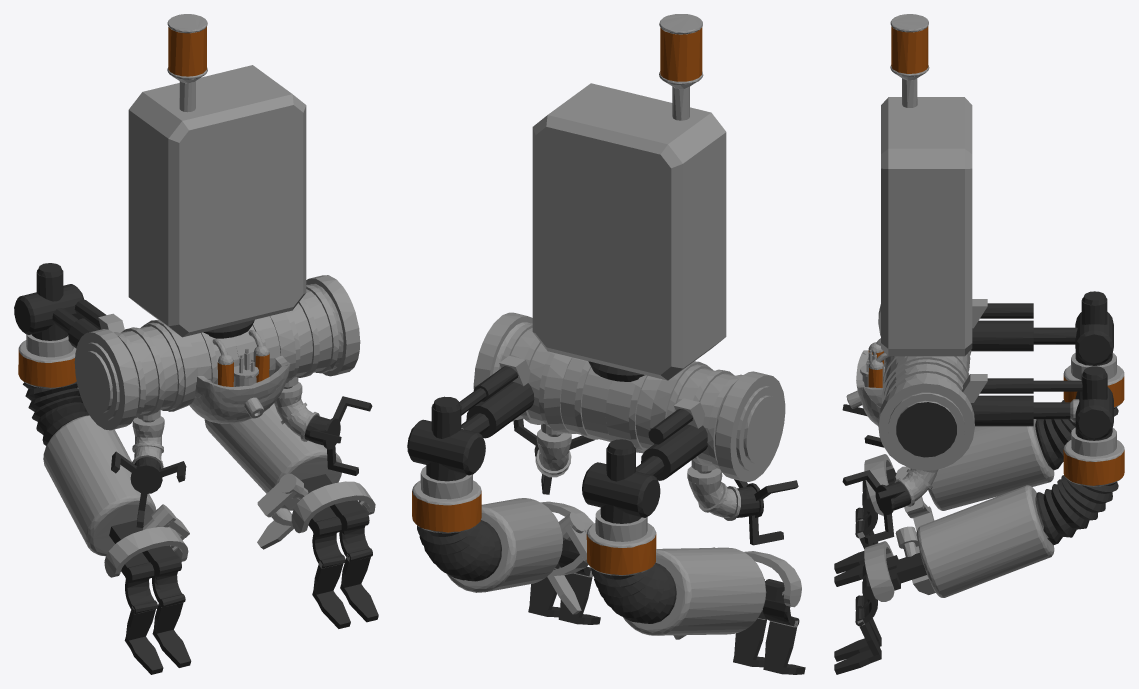
The model's file is Pod.fbx.
3 views of the same model, side by side, from view 1: azimuth 30°, elevation 25°; view 2: azimuth 150°, elevation 25°; view 3: azimuth 270°, elevation 25° (orthographic). The views are drawn at different scales.
Parts seen in each view (by area): view 1: Pod153 V2; view 2: Pod153 V2; view 3: Pod153 V2.
Part boxes in pixels (bbox=[...]): Pod153 V2: bbox=[14, 14, 378, 674]; Pod153 V2: bbox=[407, 14, 805, 674]; Pod153 V2: bbox=[834, 14, 1124, 674].
Size of the model in its own units: 9486 by 21031 by 9505.
